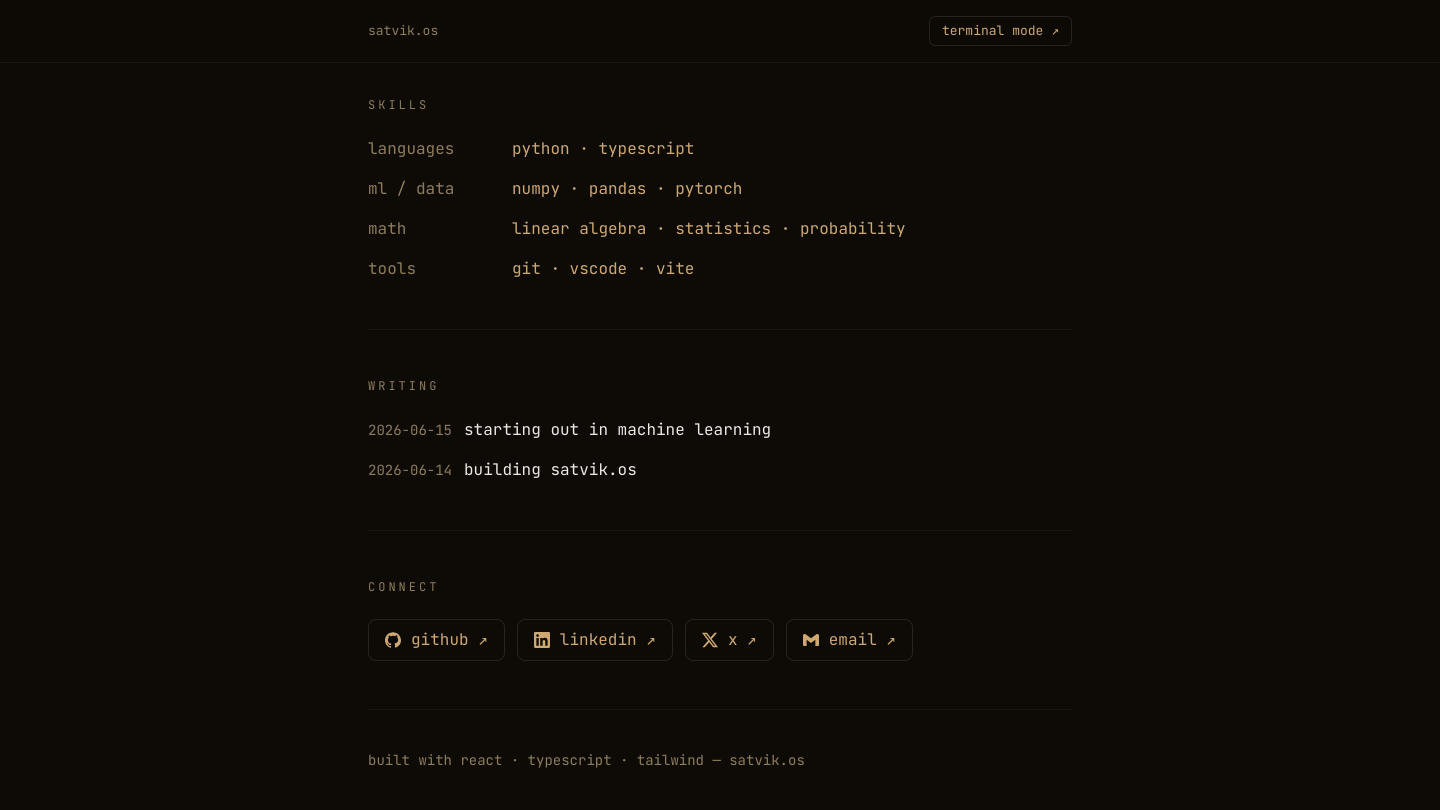
Scenario: StandardPage › lists posts and expands one when its title is clicked
(page scrolled)
Expected: the text "building satvik.os" is shown, [464,458,637,482]
Click the text "starting out in machine learning": (618, 430) [464,418,771,442]
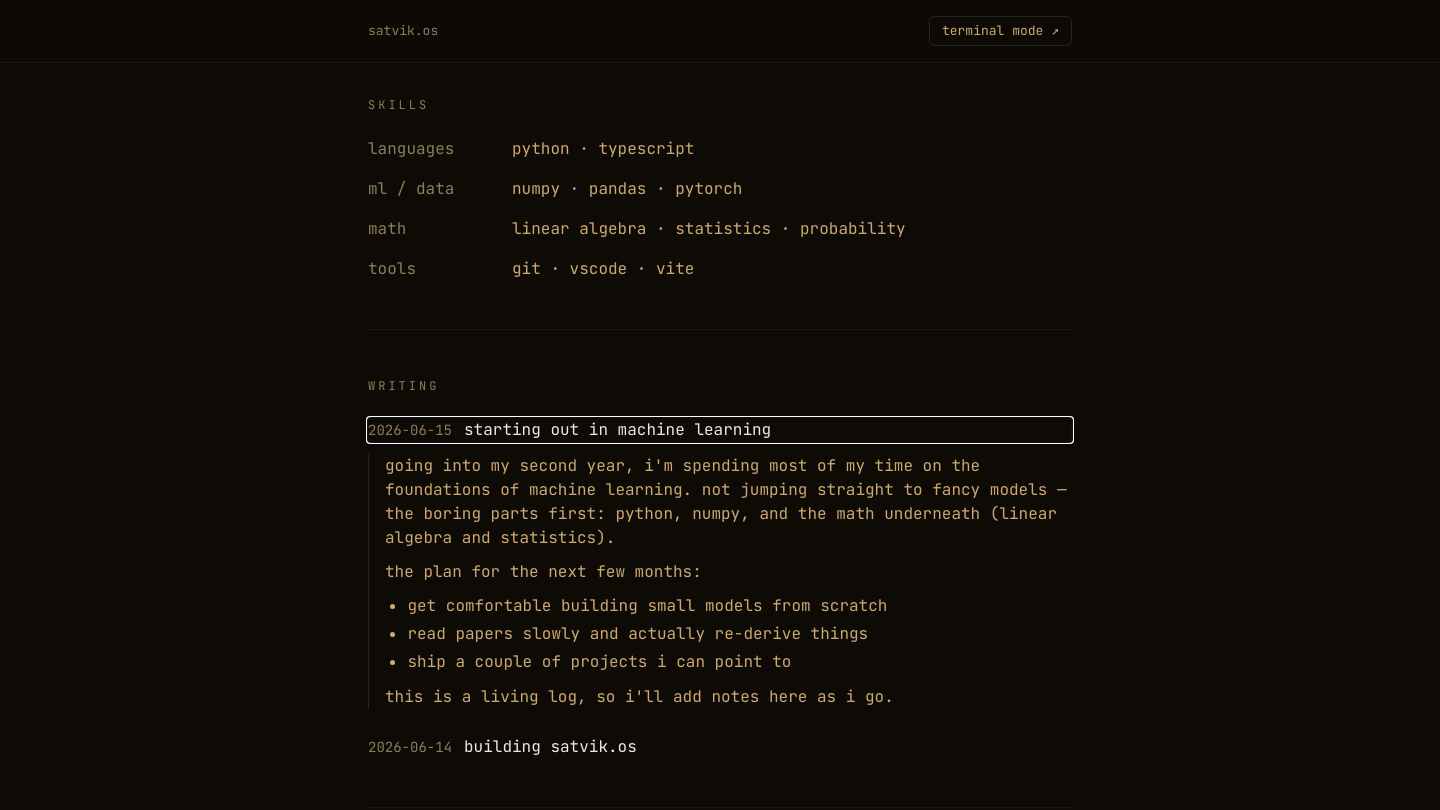
Now the text "this is a living log, so i'll add notes here as i go." is shown, box [385,686,894,707]
